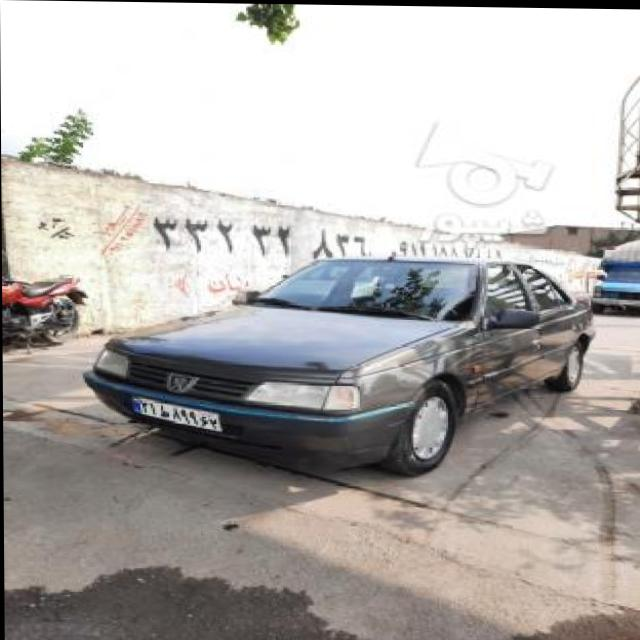licence: (132, 393, 226, 437)
